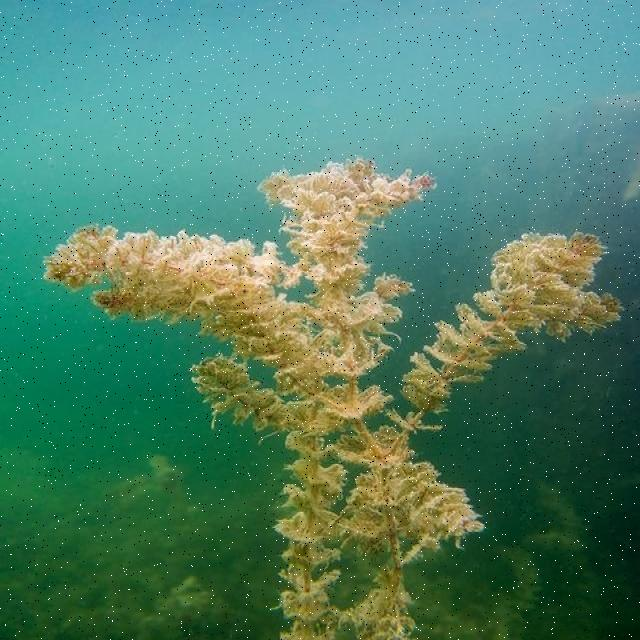aquatic plants: (43, 154, 629, 639)
